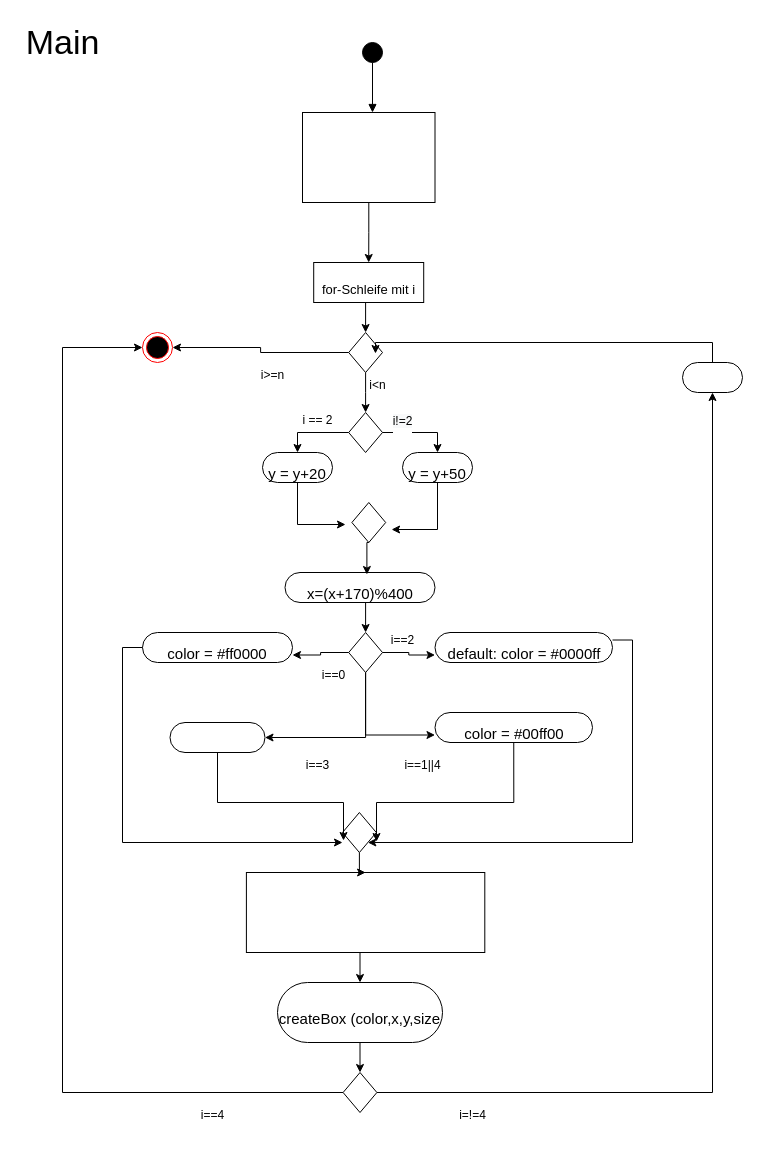
Image size: 760x1149. Some labels were removed from this diagram. Here are the shapes that lost their labels. From the top down, the centre of each, then its label:
the point at 368,157: let n:number = 5; let color: string; let x: number =0; let y: number =0;
the point at 712,377: i++
the point at 217,737: continue
the point at 365,912: for-Schleife durchläuft Array:string[]= ["big", "medium", "small"]
